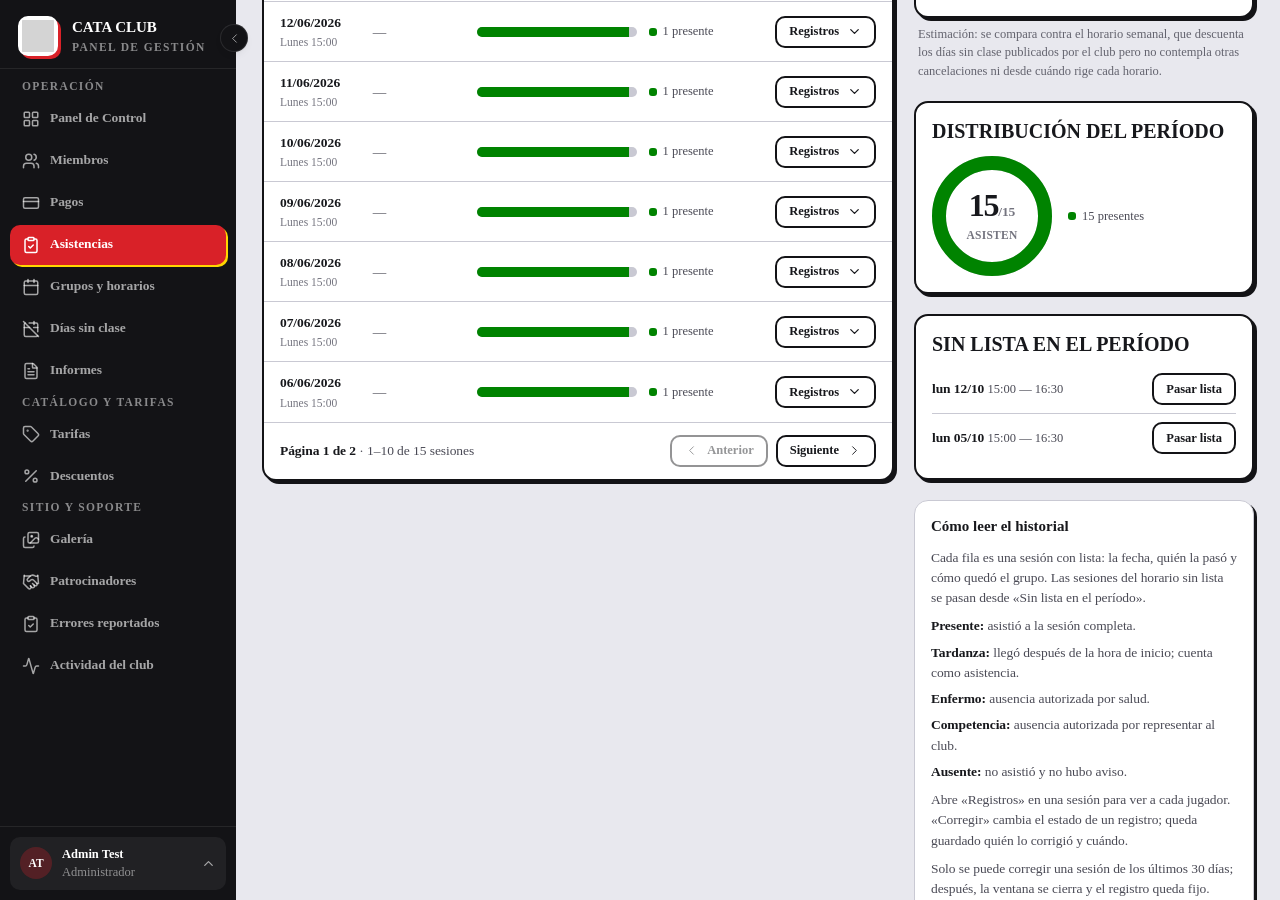
it: AttendancePage — session pagination › advances to the next page and back when the labeled buttons are clicked
(page scrolled)
Check: the text "Página 1 de 2" is shown, box top-left (280, 443), bottom-right (356, 458)
Click the button "Siguiente" at (826, 451), box top-left (776, 435), bottom-right (876, 467)
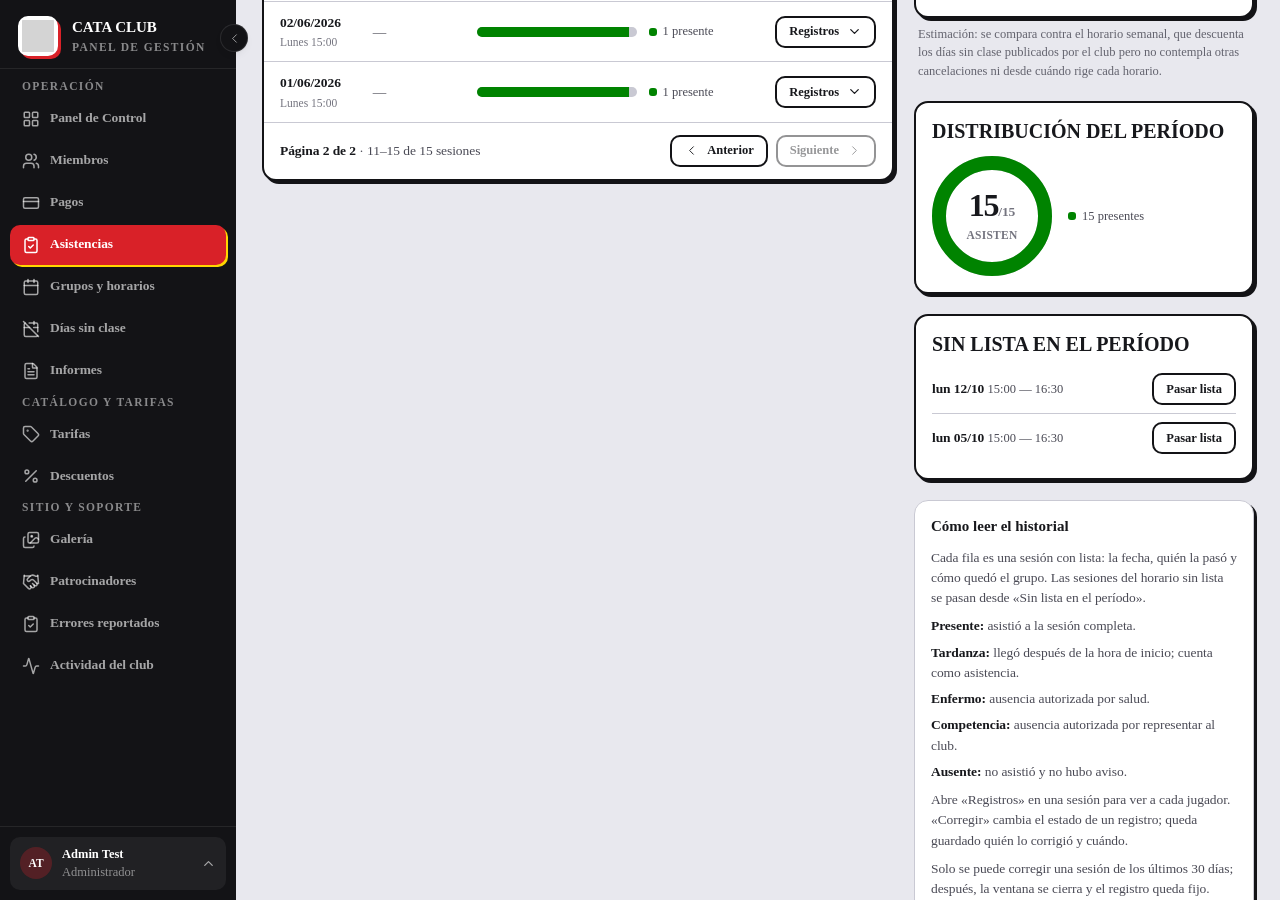
Check: the text "Página 1 de 2" is shown, box top-left (280, 143), bottom-right (356, 158)
Check: the button "Siguiente" is disabled, box top-left (776, 135), bottom-right (876, 167)
Click the button "Anterior" at (719, 151), box top-left (670, 135), bottom-right (768, 167)
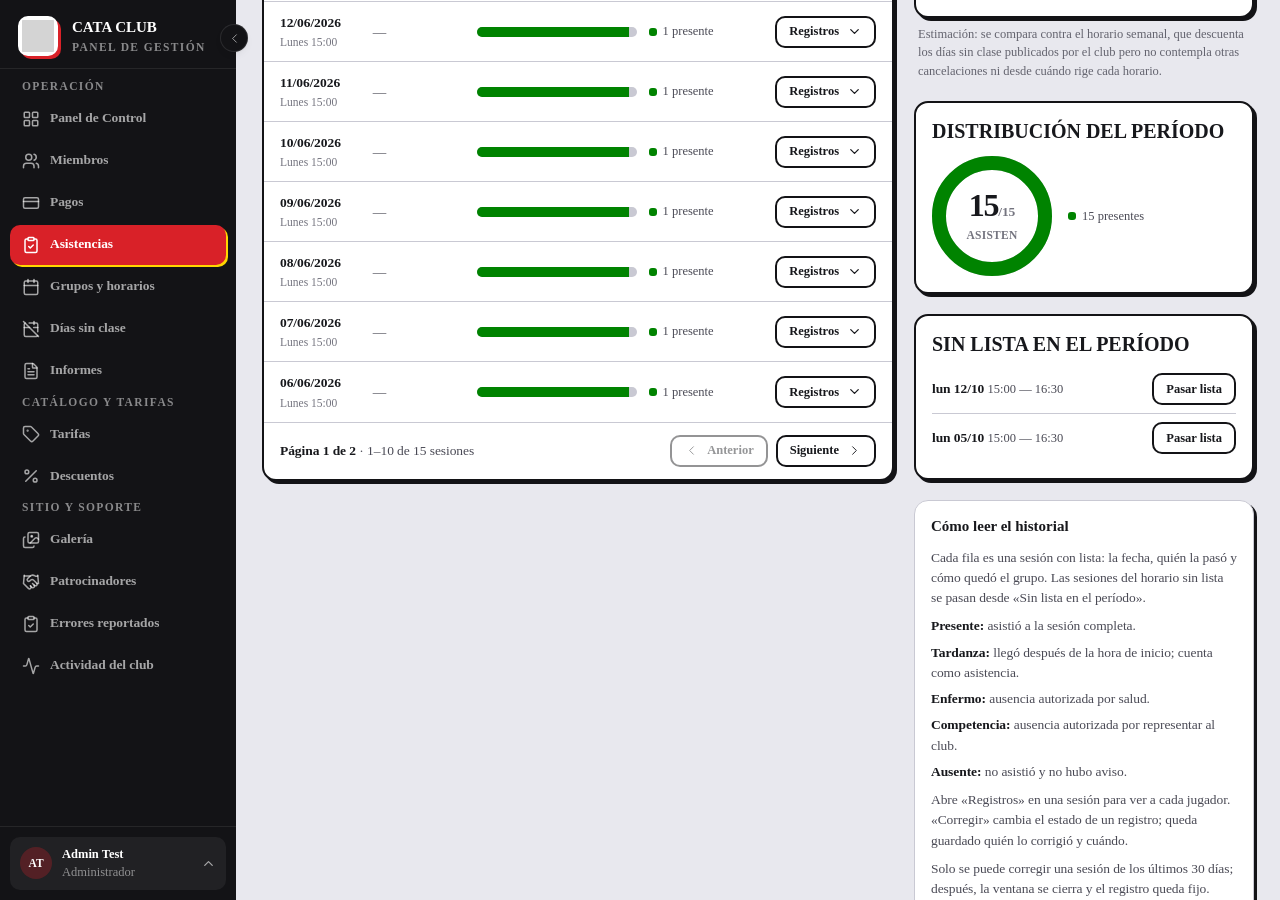
Check: the text "Página 1 de 2" is shown, box top-left (280, 443), bottom-right (356, 458)
